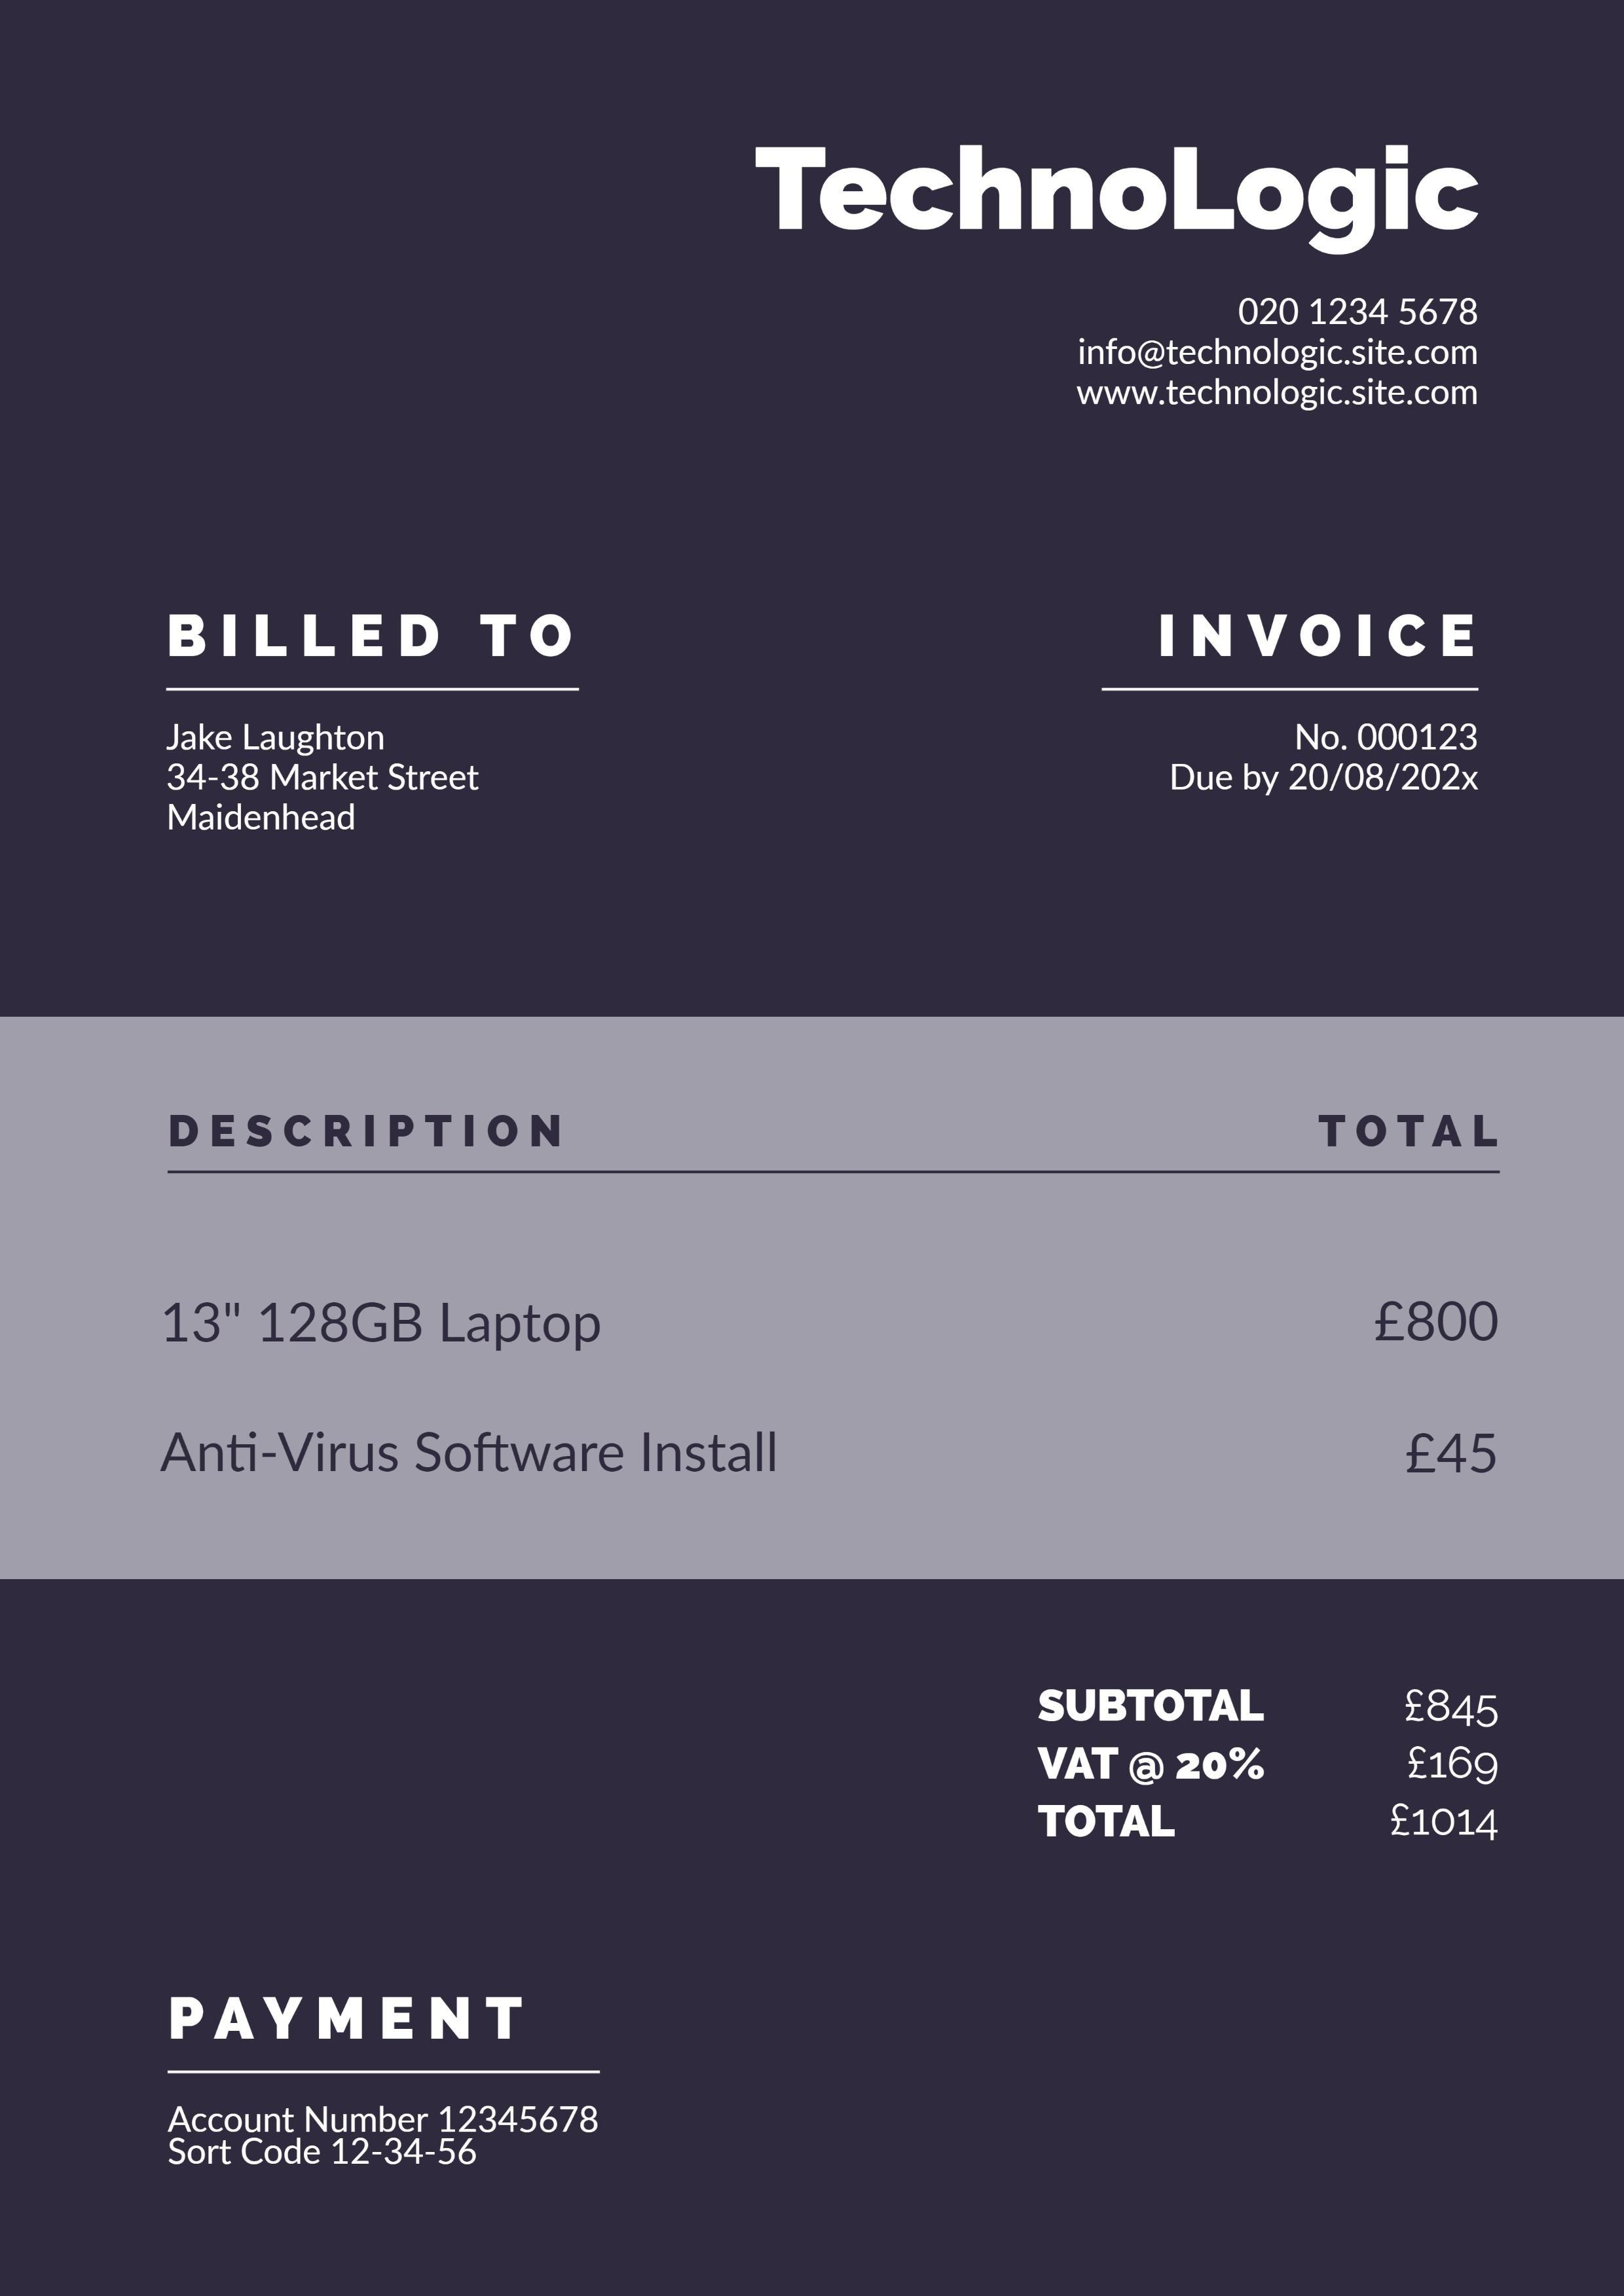ROI: (162, 1086, 1547, 1518), (116, 590, 636, 857), (700, 116, 1527, 272), (1109, 567, 1520, 848), (1009, 1657, 1534, 1874), (153, 1975, 619, 2199)
